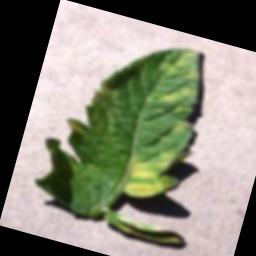Leaf_Mold: (120, 139, 184, 206)
